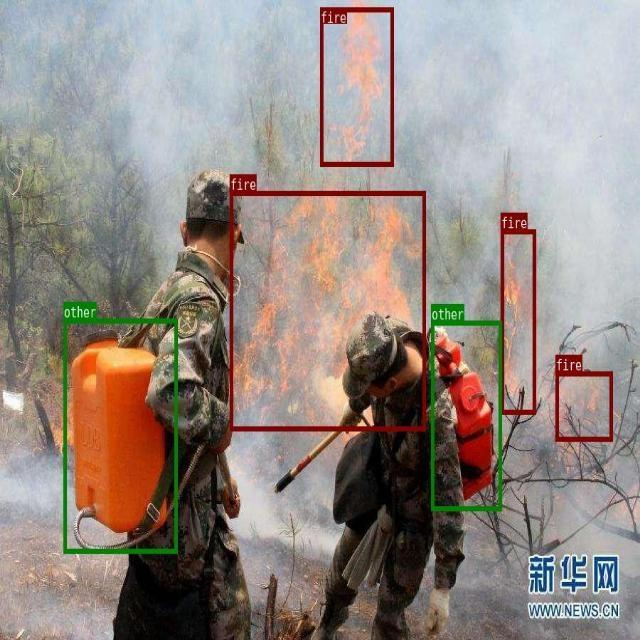fire: (229, 190, 425, 430), (320, 7, 393, 165), (500, 229, 535, 413), (555, 371, 612, 441)
